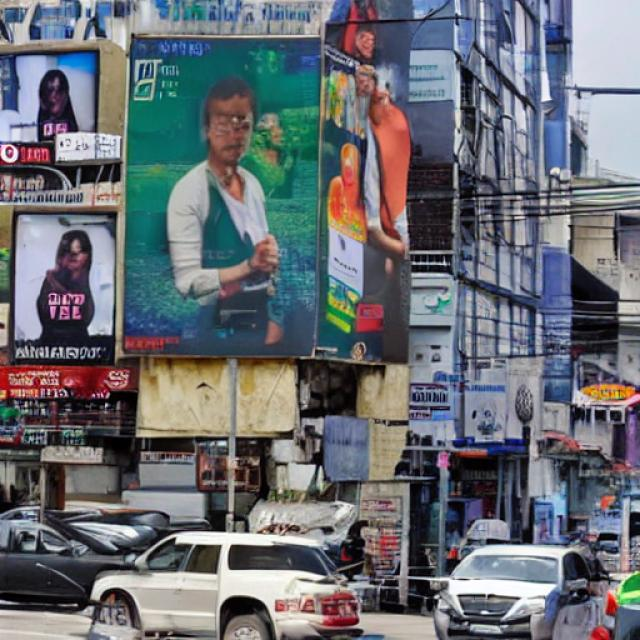Billboard: (115, 30, 320, 366), (318, 0, 414, 364), (6, 205, 118, 368), (1, 45, 99, 175)
